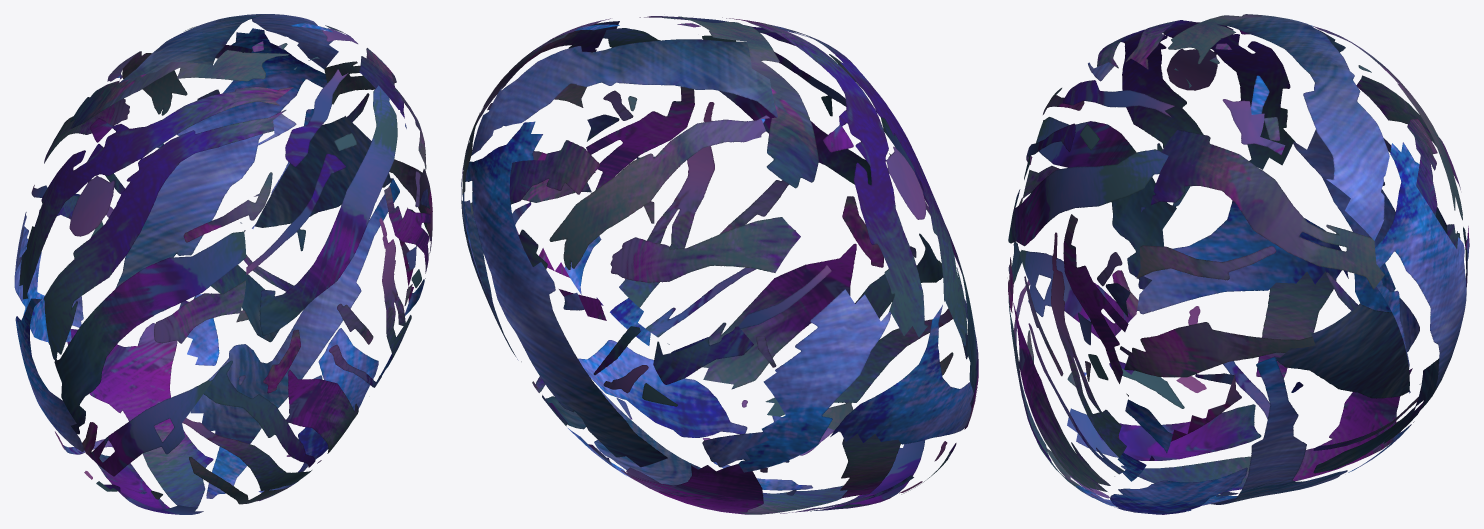
Rendered from rock.fbx.
The picture shows the model from 3 angles, left to right: view 1: azimuth 30°, elevation 25°; view 2: azimuth 150°, elevation 25°; view 3: azimuth 270°, elevation 25°; orthographic projection. The views are drawn at different scales.
Parts seen in each view (by area): view 1: MeshLayer; view 2: MeshLayer; view 3: MeshLayer.
Part boxes in pixels (left/top/right/bottom): MeshLayer: left=14, top=14, right=432, bottom=514; MeshLayer: left=461, top=16, right=978, bottom=514; MeshLayer: left=1008, top=14, right=1469, bottom=514.
Bounding box in the file's own units: 1.48 × 1.29 × 1.5.
1 material, 1 textured.
